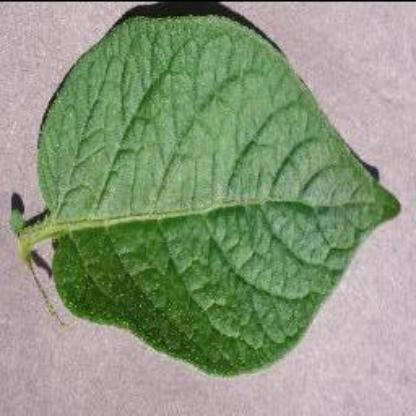Healthy-plant: (31, 11, 410, 382)
